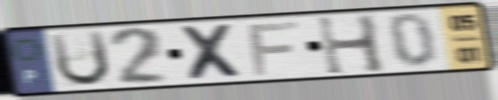0: (386, 12, 438, 70)
2: (106, 25, 173, 88)
F: (245, 19, 302, 78)
H: (314, 13, 390, 78)
U: (46, 28, 113, 89)
X: (175, 22, 249, 82)
